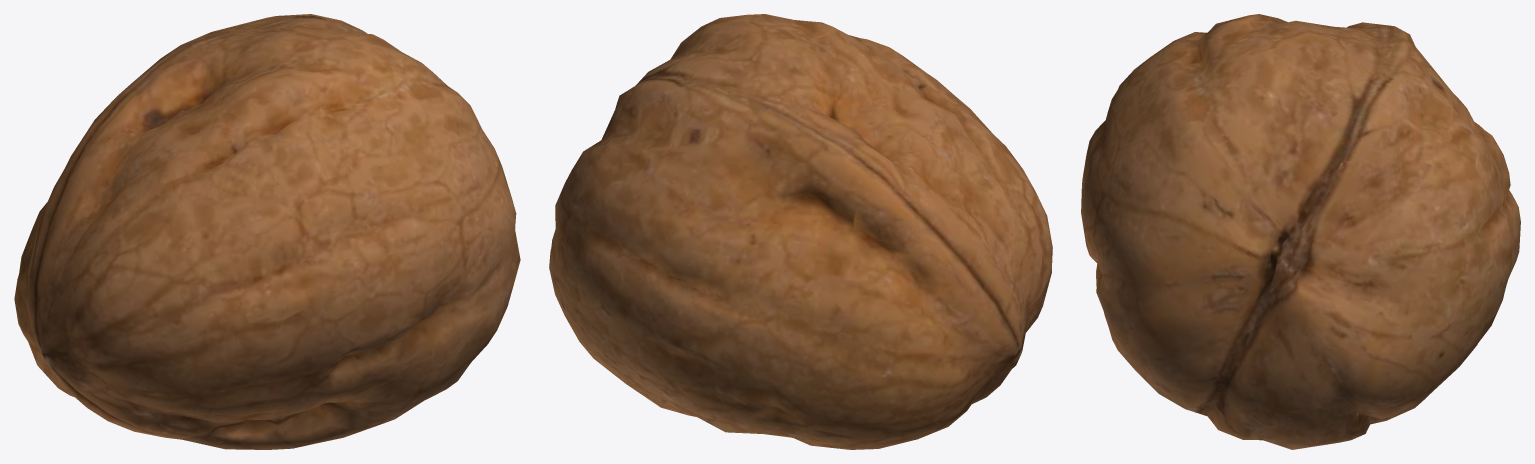
File: walnut.glb
3 renders of one model, left to right at view 1: azimuth 30°, elevation 25°; view 2: azimuth 150°, elevation 25°; view 3: azimuth 270°, elevation 25°, orthographic. The views are drawn at different scales.
Visible parts, largest first — view 1: tkzjbiciw_LOD0_TIER2_000; view 2: tkzjbiciw_LOD0_TIER2_000; view 3: tkzjbiciw_LOD0_TIER2_000.
Part boxes in pixels (x1,y1,x2,y2): tkzjbiciw_LOD0_TIER2_000: (14, 14, 520, 449); tkzjbiciw_LOD0_TIER2_000: (549, 14, 1052, 449); tkzjbiciw_LOD0_TIER2_000: (1081, 14, 1520, 449).
Size of the model in its own units: 0.0422 by 0.0339 by 0.036.
Materials: 1 (1 with a texture image).
